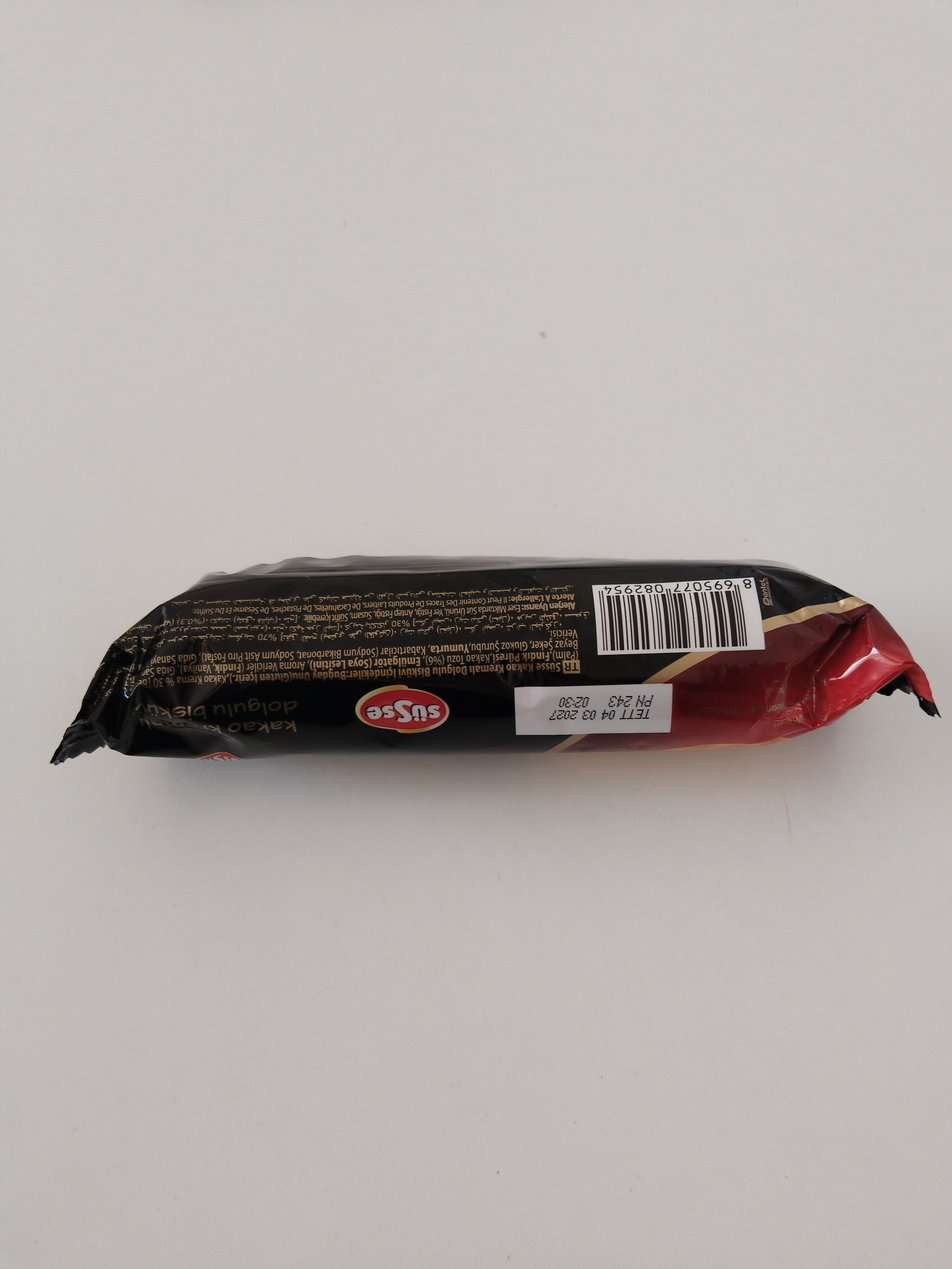susse_biskuvi: (41, 555, 941, 761)
